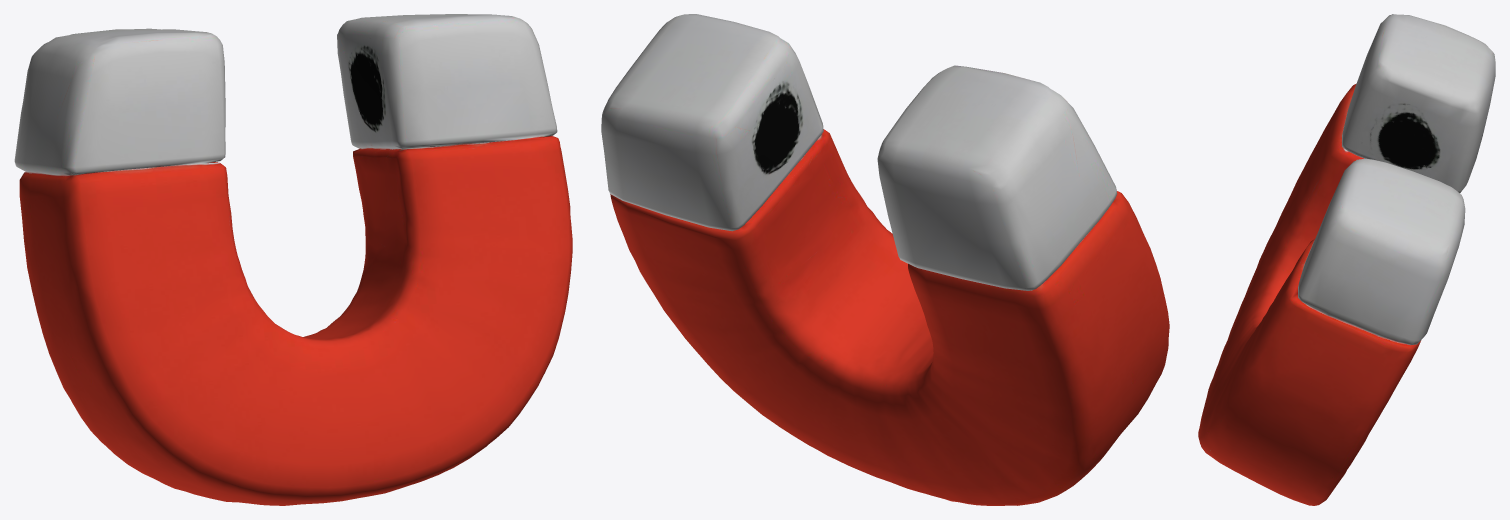
Rendered from selected.fbx.
3 views of the same model, side by side, from view 1: azimuth 30°, elevation 25°; view 2: azimuth 150°, elevation 25°; view 3: azimuth 270°, elevation 25° (orthographic). The views are drawn at different scales.
Visible parts, largest first — view 1: tripo_node_2fe73ee4-eeef-4b9d-a3a4-555e8e6aaade; view 2: tripo_node_2fe73ee4-eeef-4b9d-a3a4-555e8e6aaade; view 3: tripo_node_2fe73ee4-eeef-4b9d-a3a4-555e8e6aaade.
Part boxes in pixels (x1,y1,x2,y2): tripo_node_2fe73ee4-eeef-4b9d-a3a4-555e8e6aaade: [14, 14, 572, 505]; tripo_node_2fe73ee4-eeef-4b9d-a3a4-555e8e6aaade: [601, 14, 1169, 505]; tripo_node_2fe73ee4-eeef-4b9d-a3a4-555e8e6aaade: [1198, 14, 1495, 505].
Size of the model in its own units: 0.998 by 0.9199 by 0.6348.
